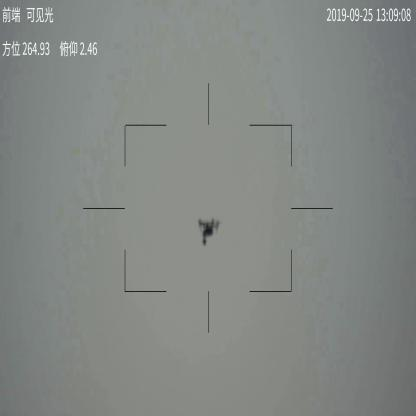uav: (198, 215, 220, 246)
